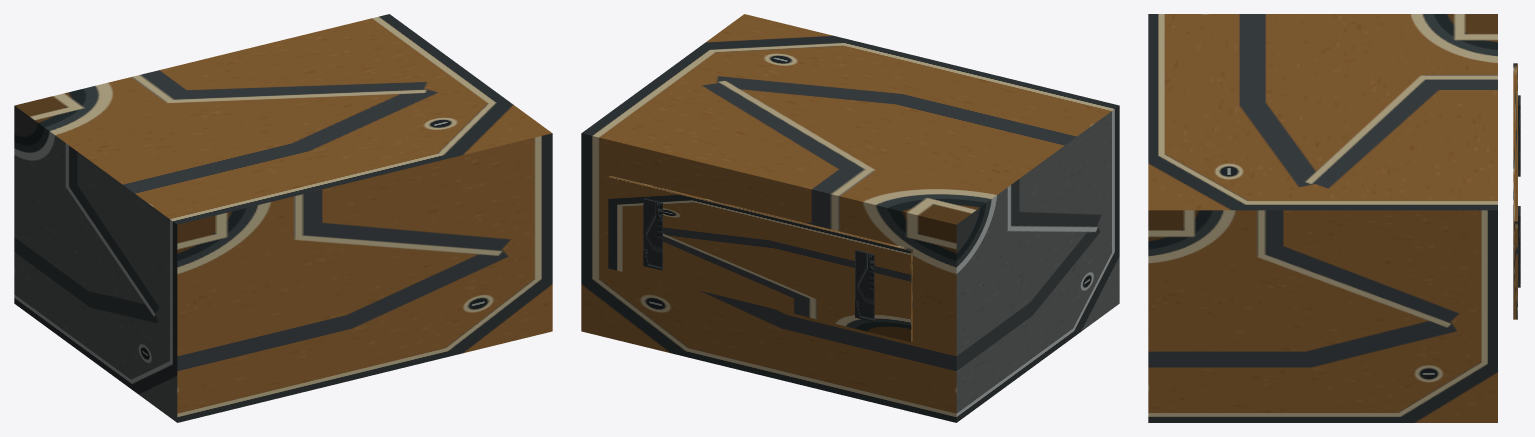
Rendered from station_surround.glb.
The picture shows the model from 3 angles, left to right: view 1: azimuth 30°, elevation 25°; view 2: azimuth 150°, elevation 25°; view 3: azimuth 270°, elevation 25°; orthographic projection. The views are drawn at different scales.
Parts seen in each view (by area): view 1: STProp_station_surround_Body; view 2: STProp_station_surround_Body; view 3: STProp_station_surround_Body.
Boxes of the visible parts, x1,y1,x2,y2 form: STProp_station_surround_Body: [14, 14, 552, 422]; STProp_station_surround_Body: [581, 14, 1119, 422]; STProp_station_surround_Body: [1148, 14, 1520, 422].
Size of the model in its own units: 4.04 by 2.04 by 3.24.
Materials: 3 (3 with a texture image).
